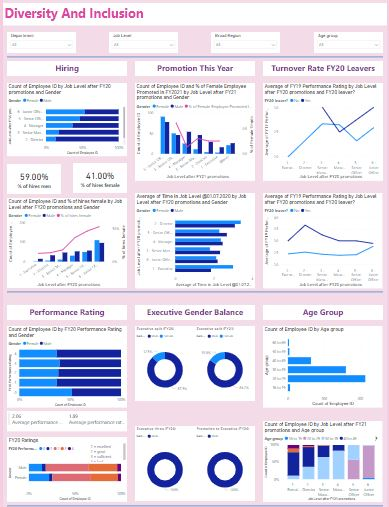

What the dashboard file says about the page in this screenshot:
{"tool":"powerbi","page":{"name":"Page 1","canvas":[1280,1700],"ordinal":0},"visuals":[{"type":"textbox","box":[0,15,1280,75],"z":0},{"type":"slicer","fields":{"Values":["Main.Department @01.07.2020"]},"box":[12,113.7,230,70],"z":1},{"type":"slicer","fields":{"Values":["Main.Job Level group for PRA"]},"box":[353.3,113.7,230,70],"z":2},{"type":"slicer","fields":{"Values":["Main.Broad region group: nationality 1"]},"box":[694.7,113.7,230,70],"z":3},{"type":"slicer","fields":{"Values":["Main.Age group"]},"box":[1036,113.7,230,70],"z":4},{"type":"hundredPercentStackedBarChart","fields":{"Category":["Main.Job Level after FY20 promotions"],"Y":["CountNonNull(Main.Employee ID)"],"Series":["Main.Gender"]},"box":[12,284,400,244],"z":5},{"type":"card","fields":{"Values":["Table.% of hires men"]},"box":[12,552,180,100],"z":6},{"type":"card","fields":{"Values":["Table.% of hires female"]},"box":[232,550,180,100],"z":7},{"type":"lineClusteredColumnComboChart","fields":{"Category":["Main.Job Level after FY20 promotions"],"Y":["CountNonNull(Main.Employee ID)"],"Series":["Main.Gender"],"Y2":["Table.% of hires female"]},"box":[12,668,400,300],"z":8},{"type":"lineClusteredColumnComboChart","fields":{"Category":["Main.Job Level after FY21 promotions"],"Y":["CountNonNull(Main.Employee ID)"],"Series":["Main.Gender"],"Y2":["Table.% of Female Employee Promoted In FY2021"]},"box":[440,284,400,326],"z":9},{"type":"clusteredBarChart","fields":{"Category":["Main.Job Level after FY20 promotions"],"Y":["Avg(Main.Time in Job Level @01.07.2020)"],"Series":["Main.Gender"]},"box":[440,650,400,318],"z":10},{"type":"lineChart","fields":{"Category":["Main.Job Level after FY20 promotions"],"Series":["Main.FY20 leaver?"],"Y":["Avg(Main.FY19 Performance Rating)"]},"box":[868,284,400,326],"z":11},{"type":"lineChart","fields":{"Category":["Main.Job Level after FY20 promotions"],"Series":["Main.FY20 leaver?"],"Y":["Avg(Main.FY19 Performance Rating)"]},"box":[868,650,398,318],"z":12},{"type":"hundredPercentStackedBarChart","fields":{"Series":["Main.Gender"],"Category":["Main.FY20 Performance Rating"],"Y":["CountNonNull(Main.Employee ID)"]},"box":[12,1094,400,272],"z":13},{"type":"multiRowCard","fields":{"Values":["Table.Average performance rating: men","Table.Average performance rating: women"]},"box":[12,1376,400,68],"z":14},{"type":"hundredPercentStackedBarChart","title":"FY20 Ratings","fields":{"Category":["Main.Gender"],"Y":["CountNonNull(Main.Employee ID)"],"Series":["Main.FY20 Performance Rating"]},"box":[12,1464,400,216],"z":15,"group":"g1"},{"type":"textbox","box":[285.5,1481.7,126.5,70.9],"z":16,"group":"g1"},{"type":"group","id":"g1","title":"Group 1","box":[12,1464,400,216],"z":17},{"type":"donutChart","title":"Executive split (FY20)","fields":{"Category":["Main.Gender"],"Y":["CountNonNull(Main.Employee ID)"]},"box":[440,1094,200,250],"z":18},{"type":"donutChart","title":"Executive split (FY21)","fields":{"Category":["Main.Gender"],"Y":["CountNonNull(Main.Employee ID)"]},"box":[640,1094,200,250],"z":19},{"type":"donutChart","title":"Executive Hires (FY20)","fields":{"Category":["Main.Gender"],"Y":["CountNonNull(Main.Employee ID)"]},"box":[440,1426,200,250],"z":20},{"type":"donutChart","title":"Promotion to Executive (FY20)","fields":{"Category":["Main.Gender"],"Y":["CountNonNull(Main.Employee ID)"]},"box":[640,1426,200,250],"z":21},{"type":"clusteredBarChart","fields":{"Category":["Main.Age group"],"Y":["CountNonNull(Main.Employee ID)"]},"box":[868,1094,398,272],"z":22},{"type":"hundredPercentStackedColumnChart","fields":{"Category":["Main.Job Level after FY21 promotions"],"Y":["CountNonNull(Main.Employee ID)"],"Series":["Main.Age group"]},"box":[868,1410,398,270],"z":23},{"type":"shape","box":[12,184,1254,26],"z":24},{"type":"textbox","box":[12,210,400,50],"z":25},{"type":"textbox","box":[440,210,400,50],"z":27},{"type":"textbox","box":[866,210,400,50],"z":28},{"type":"textbox","box":[12,1024,400,50],"z":29},{"type":"textbox","box":[440,1024,400,50],"z":30},{"type":"textbox","box":[868,1024,400,50],"z":31},{"type":"shape","box":[12,968,1254,26],"z":32},{"type":"shape","box":[12,1680,1254,26],"z":33}]}

Visuals, with their boxes in screenshot pixels (x1, y1, x2, y2), scaled from the page's 1280x1700 canvas onto the 389x507 screenshot:
textbox: 0,4,388,27
slicer - Main.Department @01.07.2020: 4,34,74,55
slicer - Main.Job Level group for PRA: 107,34,177,55
slicer - Main.Broad region group: nationality 1: 211,34,281,55
slicer - Main.Age group: 315,34,385,55
hundredPercentStackedBarChart - Main.Job Level after FY20 promotions x CountNonNull(Main.Employee ID): 4,85,125,157
card - Table.% of hires men: 4,165,58,194
card - Table.% of hires female: 71,164,125,194
lineClusteredColumnComboChart - Main.Job Level after FY20 promotions x CountNonNull(Main.Employee ID): 4,199,125,289
lineClusteredColumnComboChart - Main.Job Level after FY21 promotions x CountNonNull(Main.Employee ID): 134,85,255,182
clusteredBarChart - Main.Job Level after FY20 promotions x Avg(Main.Time in Job Level @01.07.2020): 134,194,255,289
lineChart - Main.Job Level after FY20 promotions x Main.FY20 leaver?: 264,85,385,182
lineChart - Main.Job Level after FY20 promotions x Main.FY20 leaver?: 264,194,385,289
hundredPercentStackedBarChart - Main.Gender x Main.FY20 Performance Rating: 4,326,125,407
multiRowCard - Table.Average performance rating: men x Table.Average performance rating: women: 4,410,125,431
"FY20 Ratings" hundredPercentStackedBarChart: 4,437,125,501
textbox: 87,442,125,463
"Group 1" group: 4,437,125,501
"Executive split (FY20)" donutChart: 134,326,194,401
"Executive split (FY21)" donutChart: 194,326,255,401
"Executive Hires (FY20)" donutChart: 134,425,194,500
"Promotion to Executive (FY20)" donutChart: 194,425,255,500
clusteredBarChart - Main.Age group x CountNonNull(Main.Employee ID): 264,326,385,407
hundredPercentStackedColumnChart - Main.Job Level after FY21 promotions x CountNonNull(Main.Employee ID): 264,421,385,501
shape: 4,55,385,63
textbox: 4,63,125,78
textbox: 134,63,255,78
textbox: 263,63,385,78
textbox: 4,305,125,320
textbox: 134,305,255,320
textbox: 264,305,385,320
shape: 4,289,385,296
shape: 4,501,385,506
